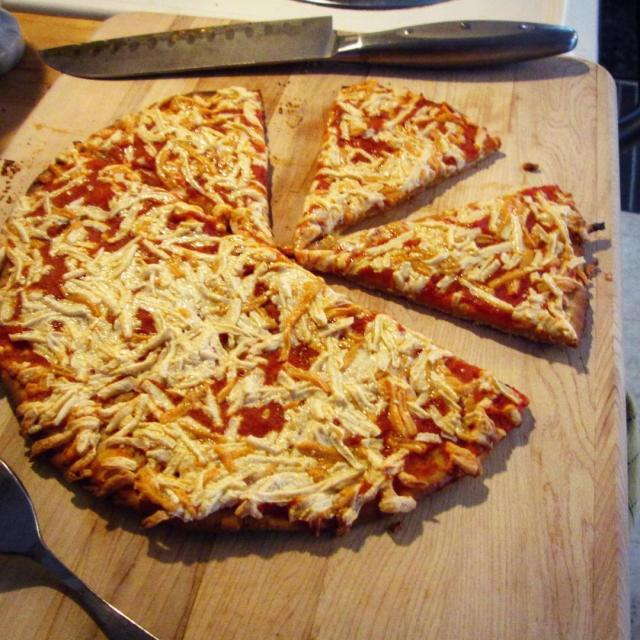pizza: (0, 80, 597, 542)
